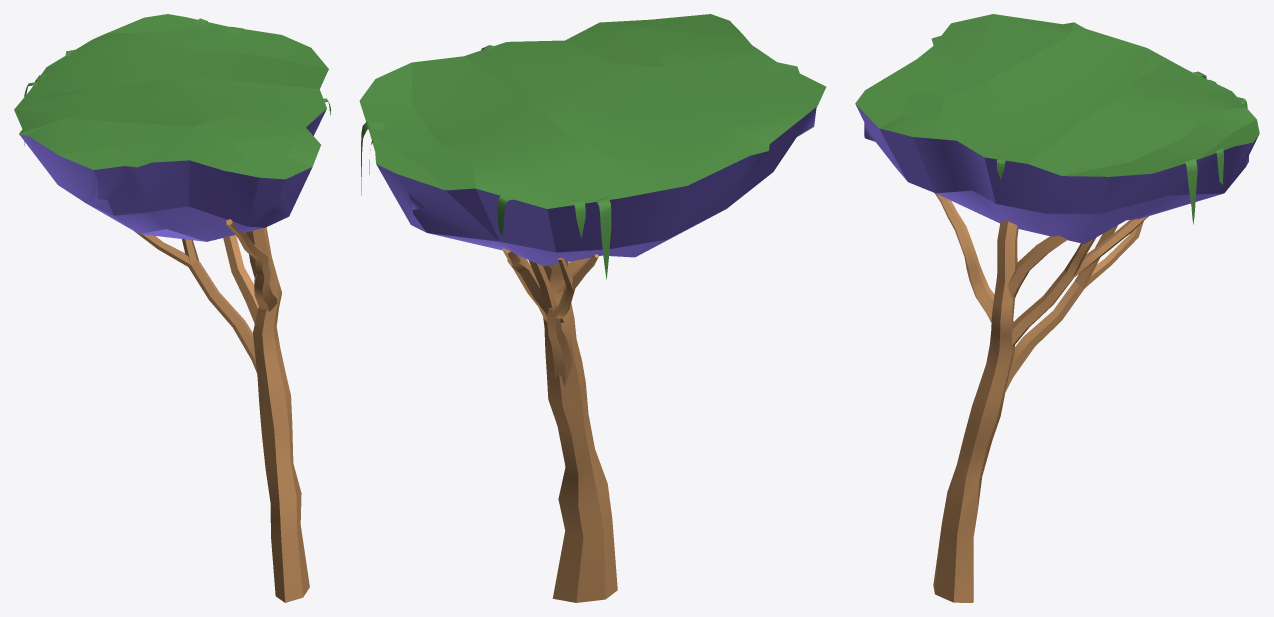
The model's file is tree_E_canopy_B_solo.fbx.
3 renders of one model, left to right at view 1: azimuth 30°, elevation 25°; view 2: azimuth 150°, elevation 25°; view 3: azimuth 270°, elevation 25°, orthographic. The views are drawn at different scales.
Visible parts, largest first — view 1: tree_E_canopy_B, tree_E_canopy_B_trunks_B1, tree_E_canopy_B_trunk_I1, tree_E_canopy_B_trunk_B1, tree_E_canopy_B_trunk_C2; view 2: tree_E_canopy_B, tree_E_canopy_B_trunks_B1, tree_E_canopy_B_trunk_I1, tree_E_canopy_B_trunk_C2, tree_A_canopy_B_E_liana_H; view 3: tree_E_canopy_B, tree_E_canopy_B_trunks_B1, tree_E_canopy_B_trunk_I1, tree_E_canopy_B_trunk_C2, tree_E_canopy_B_trunk_B1, tree_E_canopy_B_trunk_C1.
Boxes of the visible parts, bbox=[...] form: tree_E_canopy_B: bbox=[14, 14, 328, 241]; tree_E_canopy_B_trunks_B1: bbox=[245, 227, 309, 602]; tree_E_canopy_B_trunk_I1: bbox=[134, 231, 256, 372]; tree_E_canopy_B_trunk_B1: bbox=[226, 219, 277, 311]; tree_E_canopy_B_trunk_C2: bbox=[223, 235, 258, 323]; tree_E_canopy_B: bbox=[359, 14, 826, 266]; tree_E_canopy_B_trunks_B1: bbox=[543, 262, 617, 602]; tree_E_canopy_B_trunk_I1: bbox=[528, 254, 599, 386]; tree_E_canopy_B_trunk_C2: bbox=[502, 248, 564, 322]; tree_A_canopy_B_E_liana_H: bbox=[595, 197, 611, 279]; tree_E_canopy_B: bbox=[855, 14, 1259, 243]; tree_E_canopy_B_trunks_B1: bbox=[933, 220, 1018, 602]; tree_E_canopy_B_trunk_I1: bbox=[1004, 221, 1143, 394]; tree_E_canopy_B_trunk_C2: bbox=[1012, 216, 1148, 345]; tree_E_canopy_B_trunk_B1: bbox=[934, 193, 994, 322]; tree_E_canopy_B_trunk_C1: bbox=[1008, 235, 1066, 298].
Size of the model in its own units: 302 by 442 by 340.
